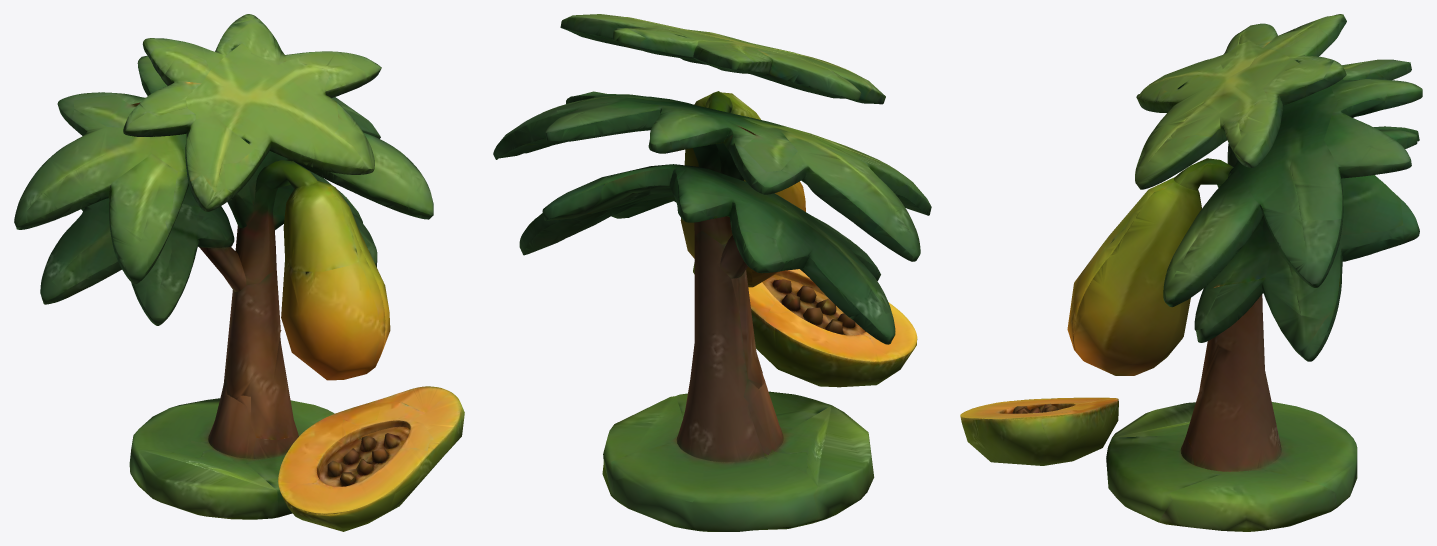
The model's file is papaya_pbr.glb.
3 views of the same model, side by side, from view 1: azimuth 30°, elevation 25°; view 2: azimuth 150°, elevation 25°; view 3: azimuth 270°, elevation 25° (orthographic). The views are drawn at different scales.
Visible parts, largest first — view 1: model; view 2: model; view 3: model.
Boxes of the visible parts, x1,y1,x2,y2 form: model: (14,14,464,531); model: (493,14,931,531); model: (960,14,1422,531).
Size of the model in its own units: 1.6 by 1.71 by 1.63.
Materials: 1 (1 with a texture image).
